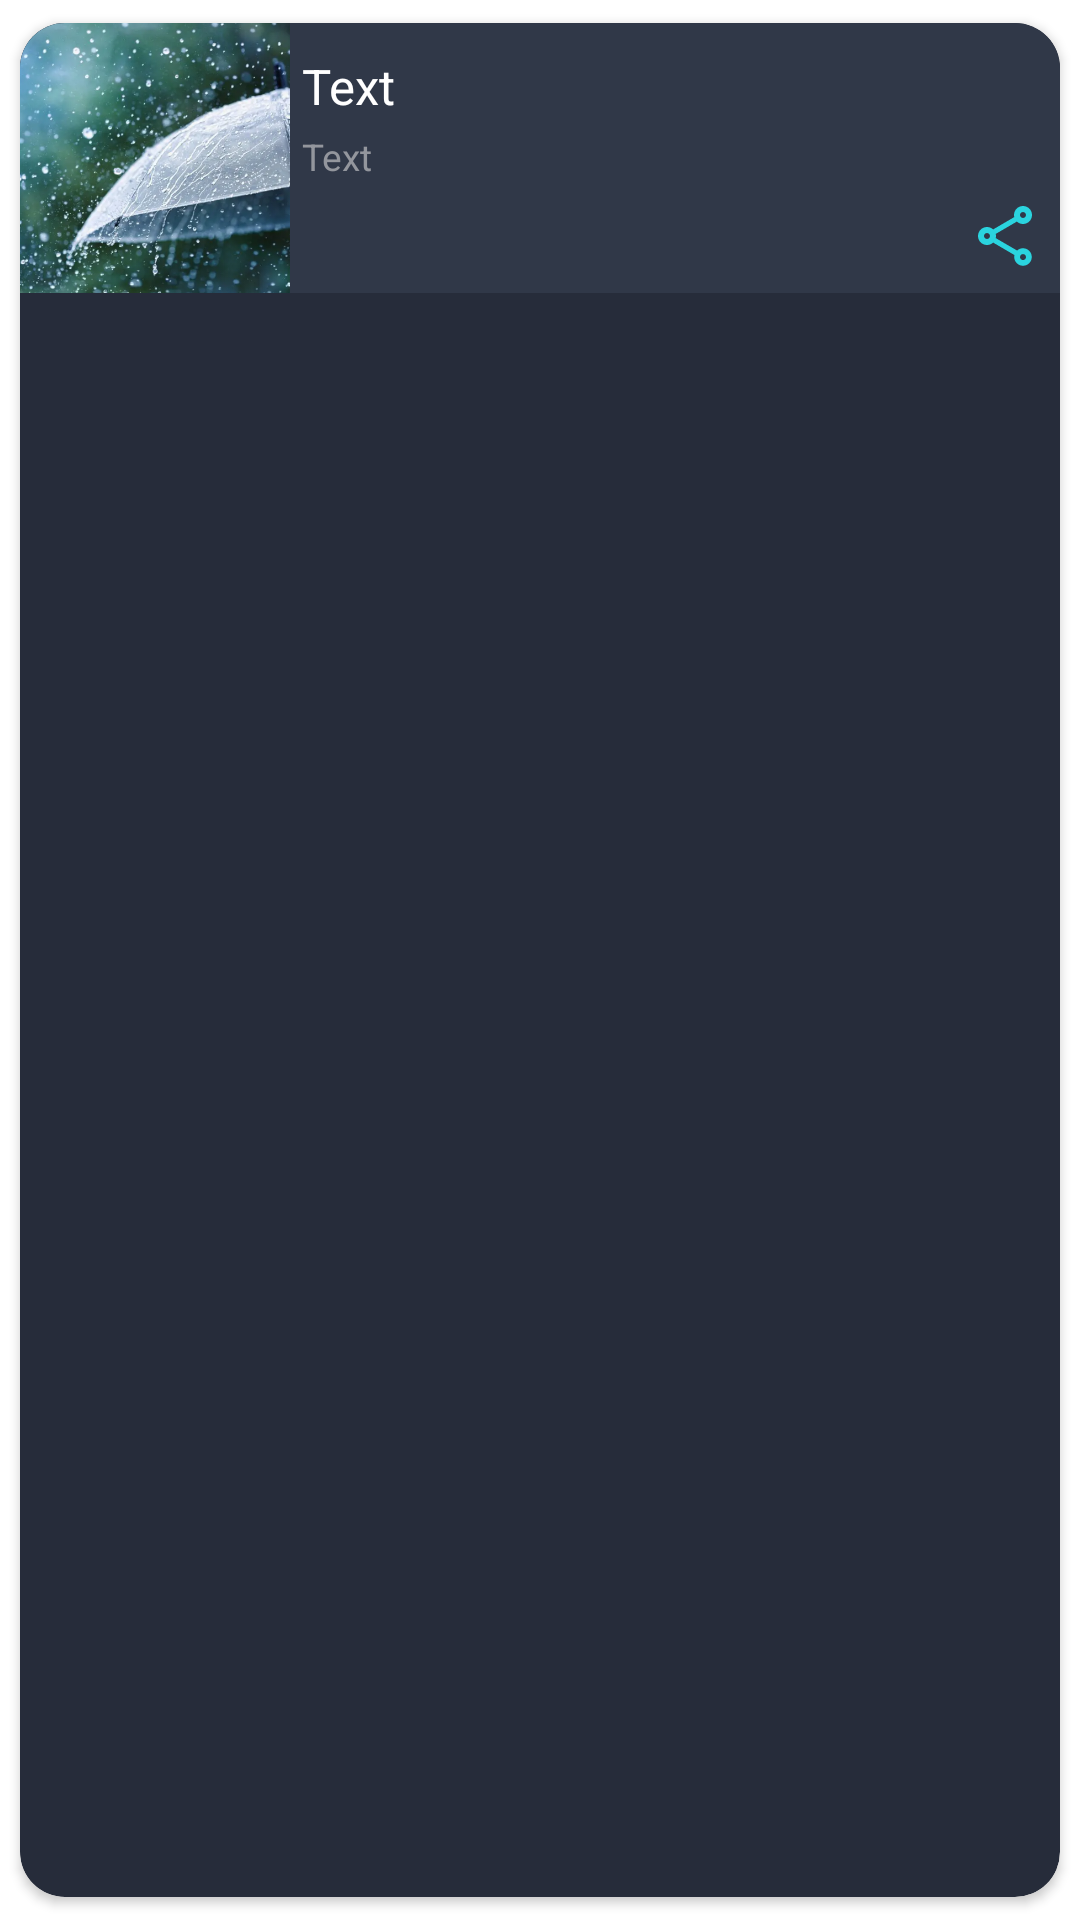

Icons on this 1080px x 1920px Android screen, each with the point to tap as [x,y]:
Rain with umbrella: [155,158]
share: [1005,236]
